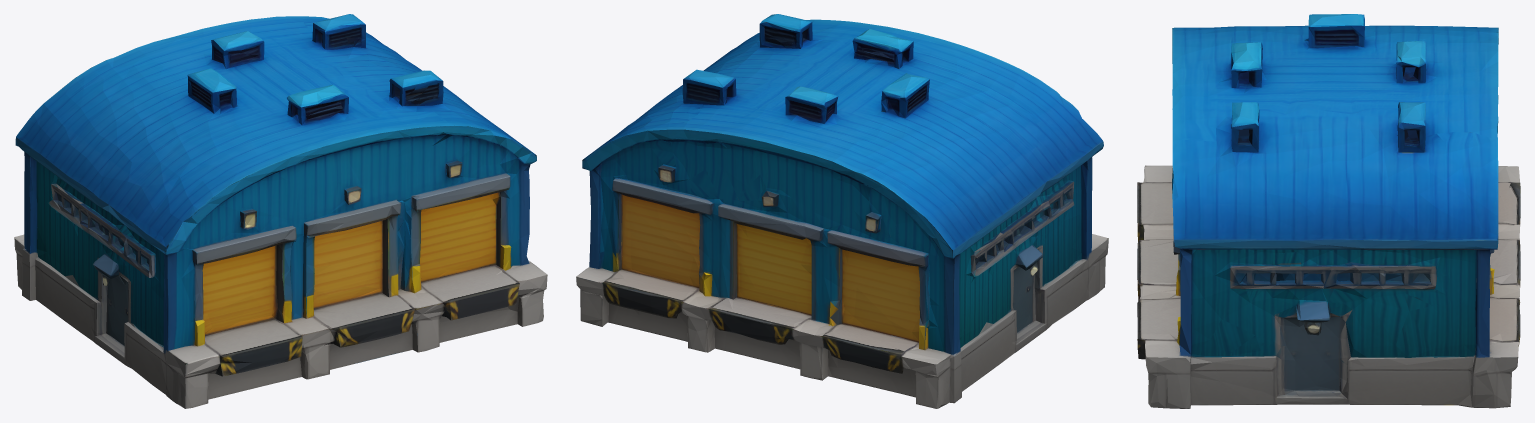
The model's file is warehouse.glb.
3 renders of one model, left to right at view 1: azimuth 30°, elevation 25°; view 2: azimuth 150°, elevation 25°; view 3: azimuth 270°, elevation 25°, orthographic. The views are drawn at different scales.
Parts seen in each view (by area): view 1: geometry_0; view 2: geometry_0; view 3: geometry_0.
Part boxes in pixels (x1,y1,x2,y2): geometry_0: (14, 14, 547, 408); geometry_0: (576, 14, 1108, 408); geometry_0: (1137, 14, 1520, 408).
Bounding box in the file's own units: 1 × 0.6198 × 0.8225.
1 material, 1 textured.
